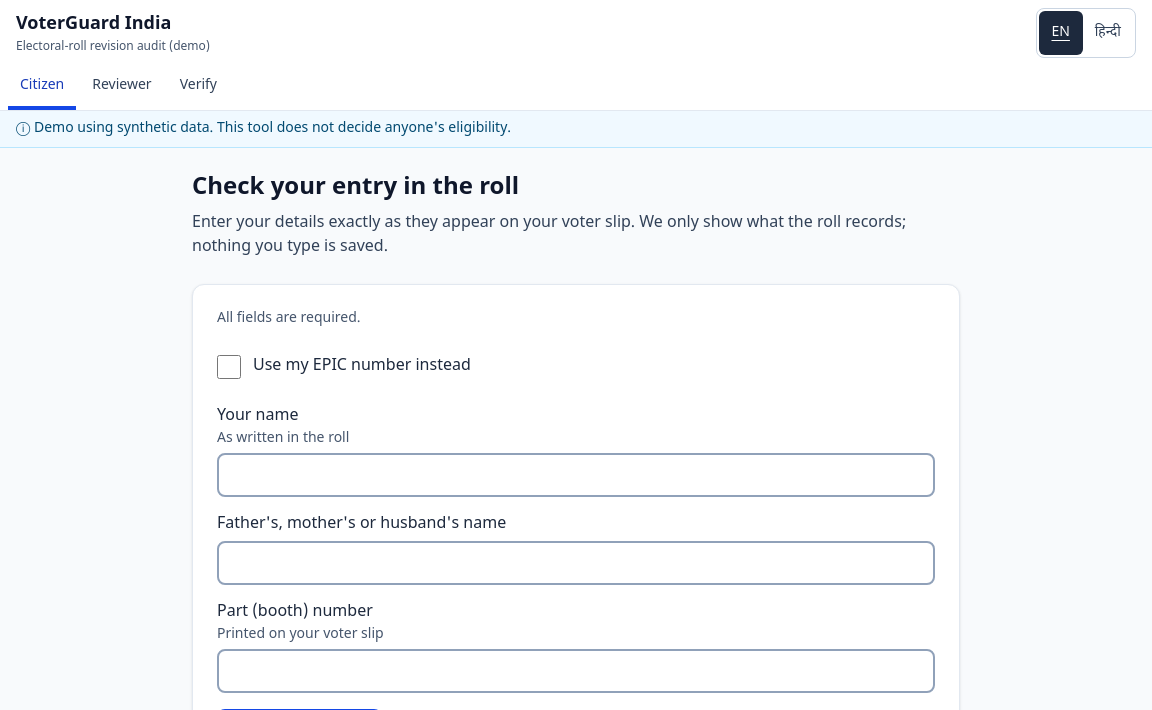
Citizen page validation › switches to a single EPIC field and validates it
The width and height of the screenshot is (1152, 710).
Click the switch labelled "Use my EPIC number instead" at (229, 367), box [217, 355, 241, 379]
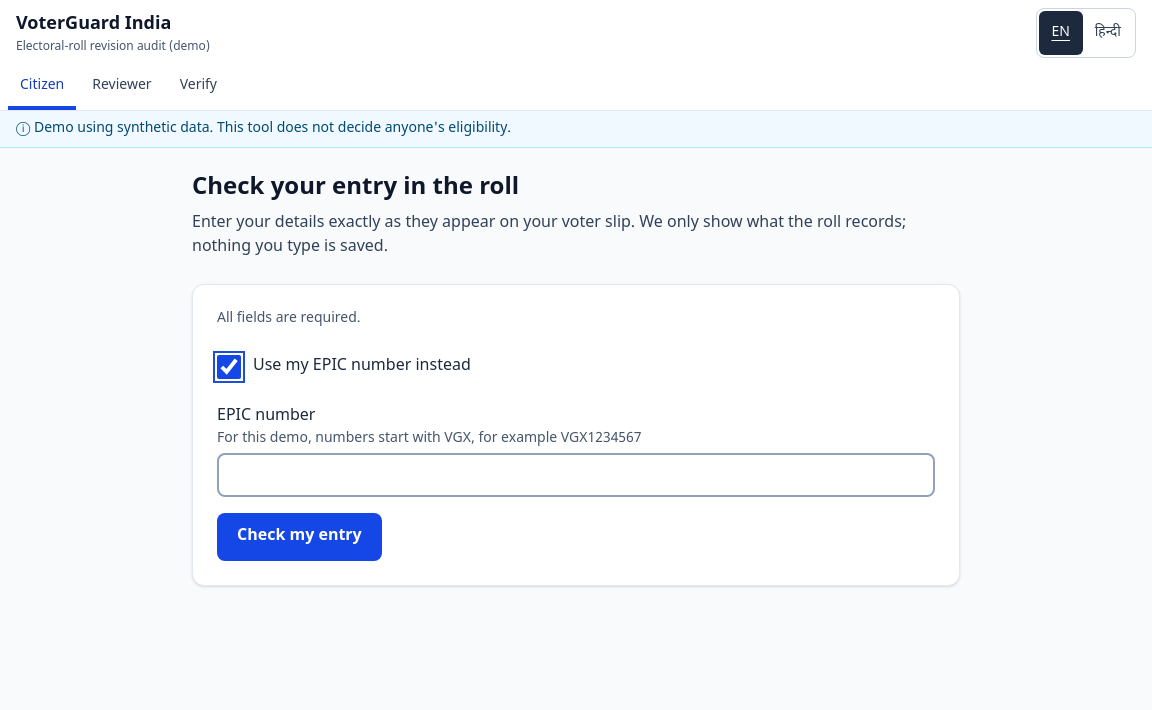
expect the label labelled "Your name" is gone: met
Click the button "Check my entry" at (299, 537), box [217, 513, 382, 561]
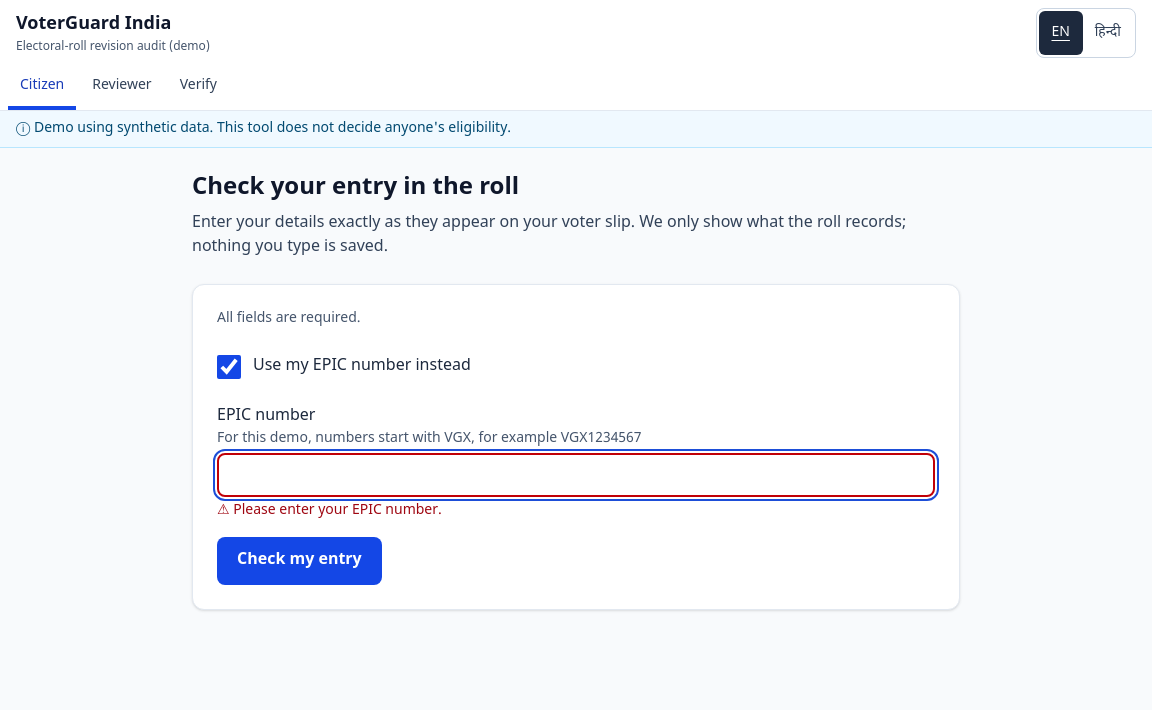
expect the text "Please enter your EPIC number." is shown: met, box [233, 501, 442, 520]
